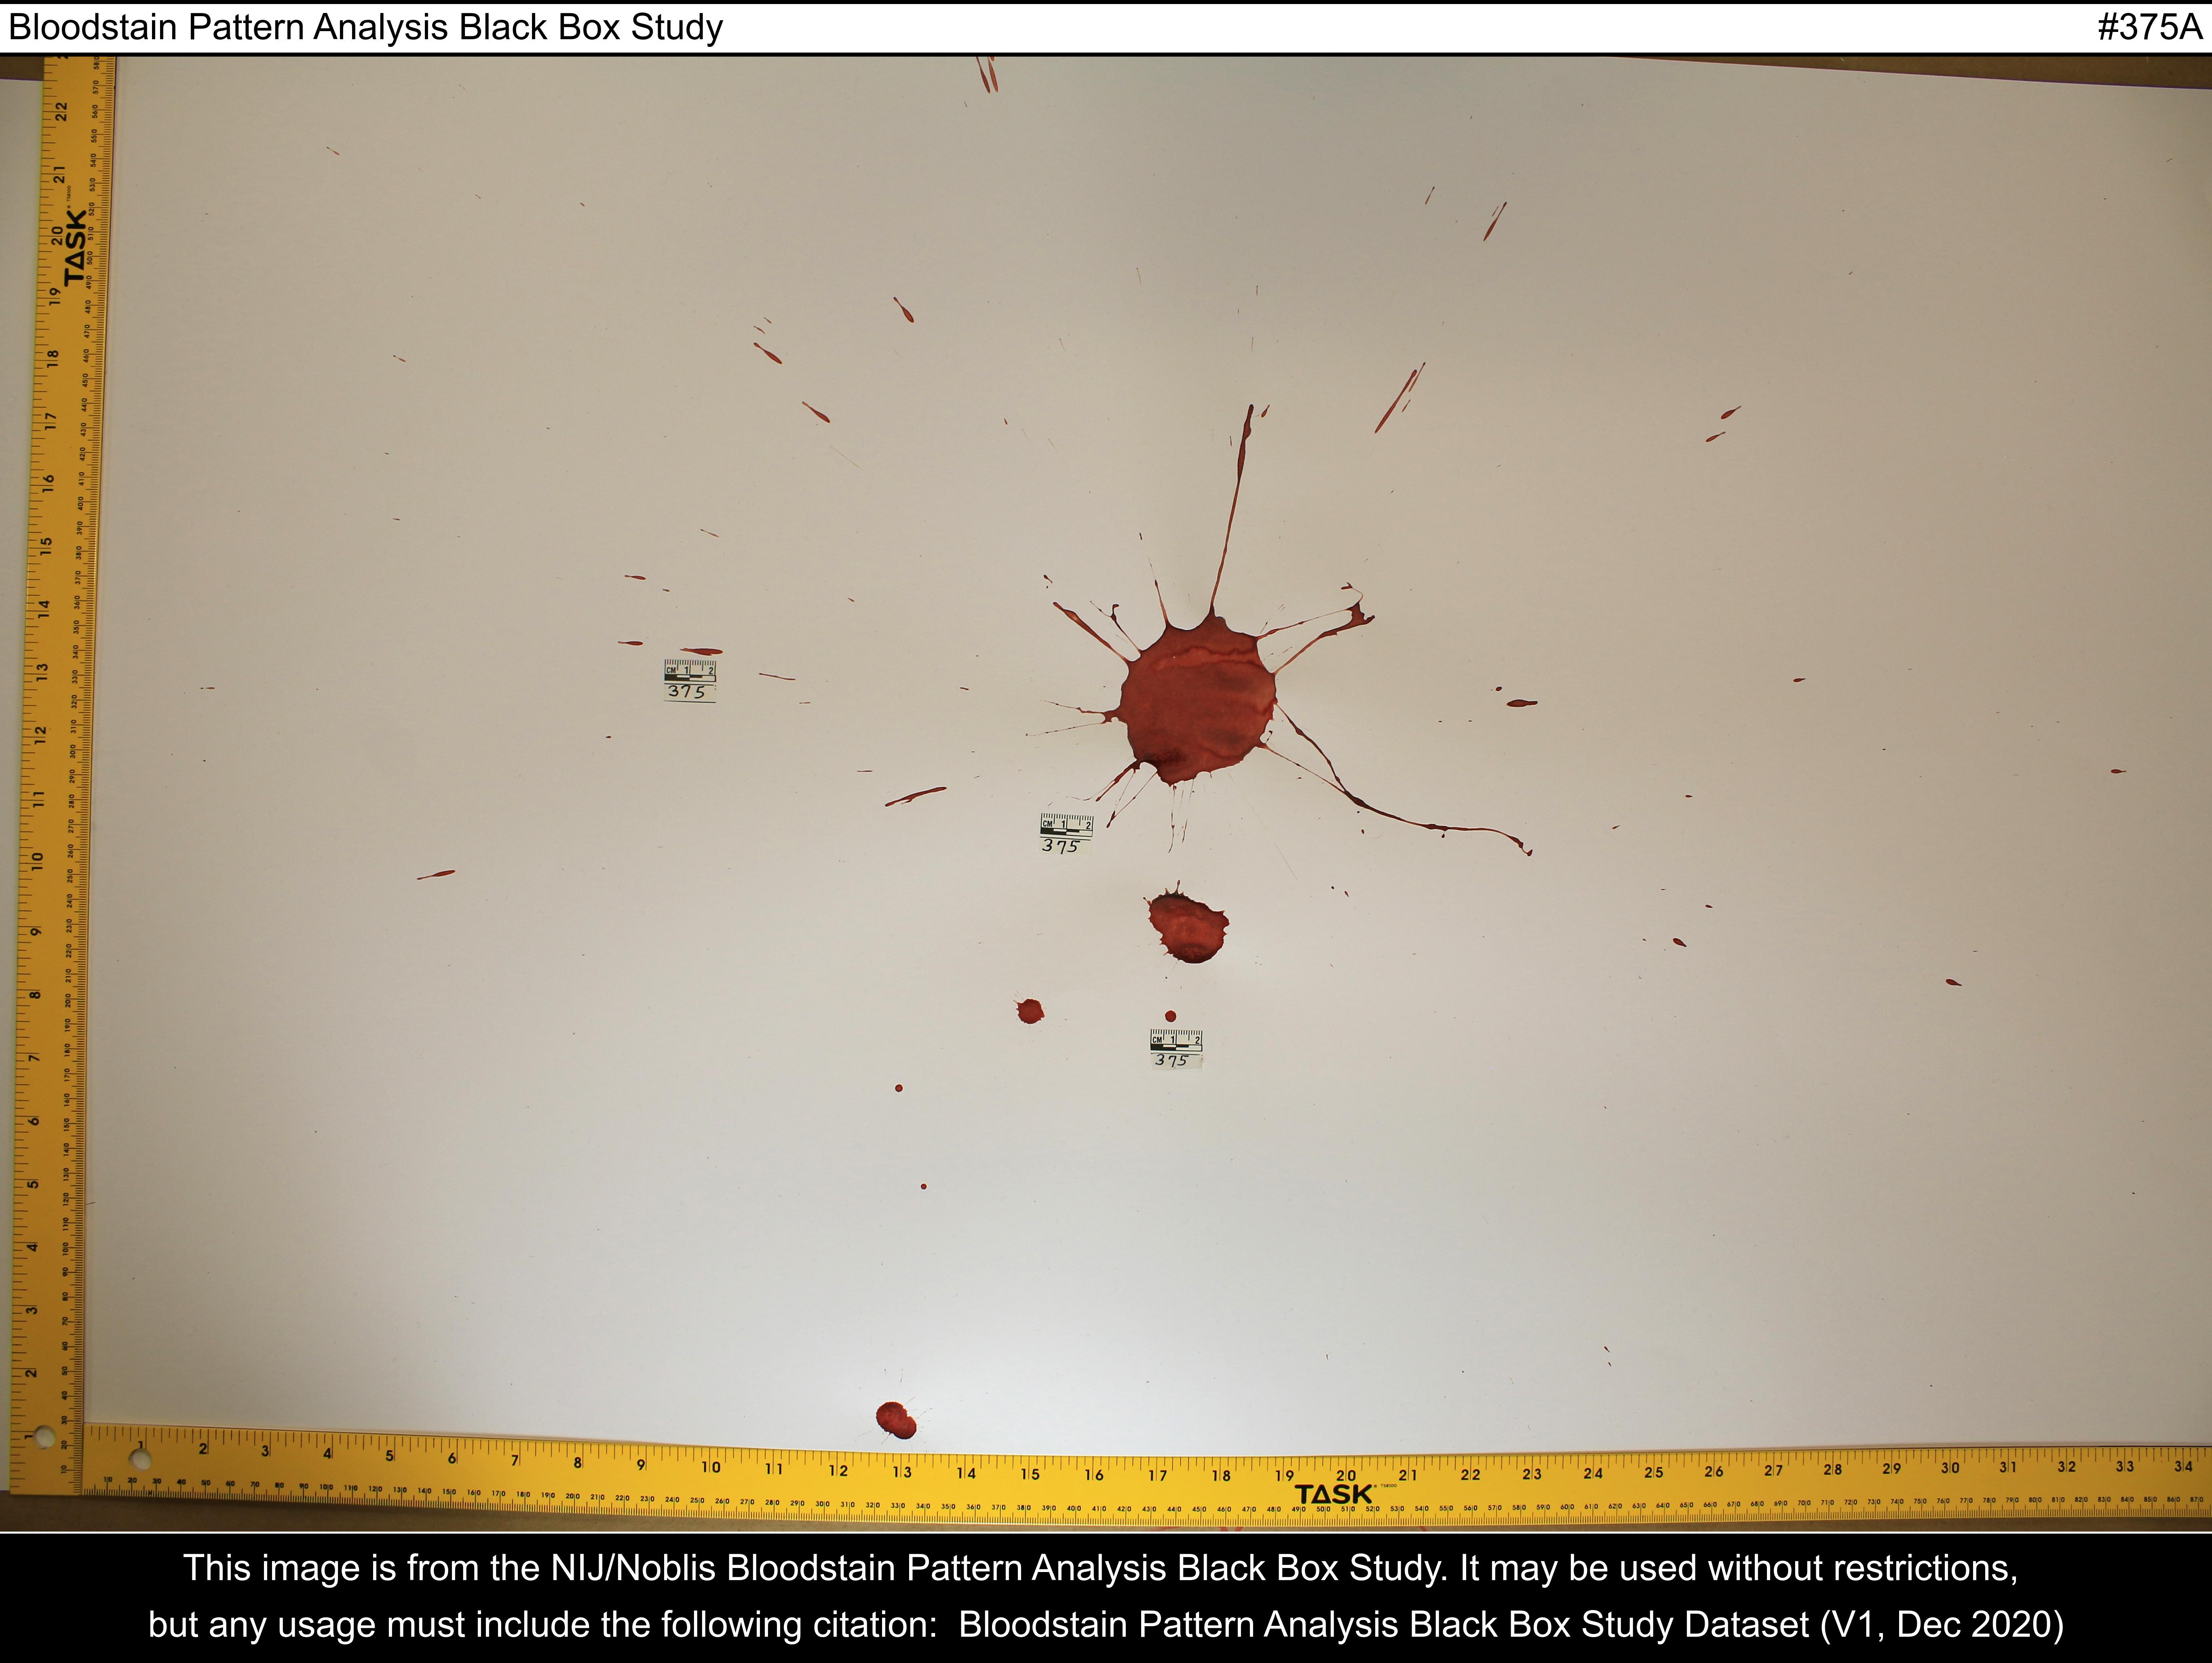Transfer: (1089, 465, 1329, 838)
